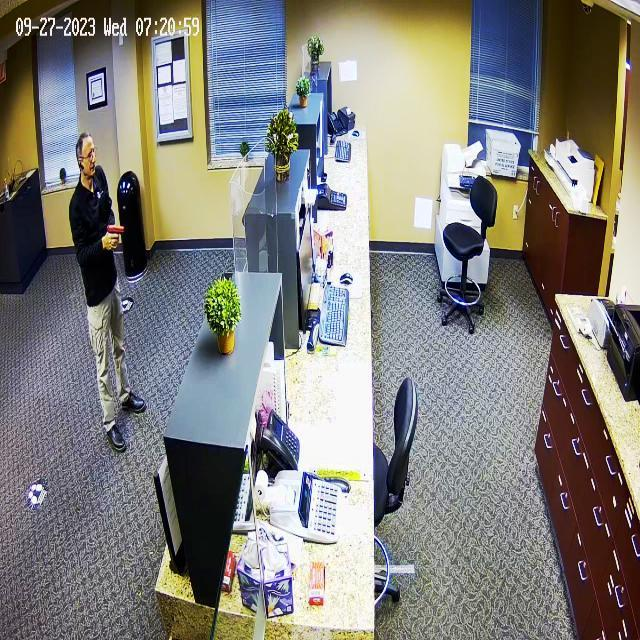Gun: (96, 224, 135, 253)
